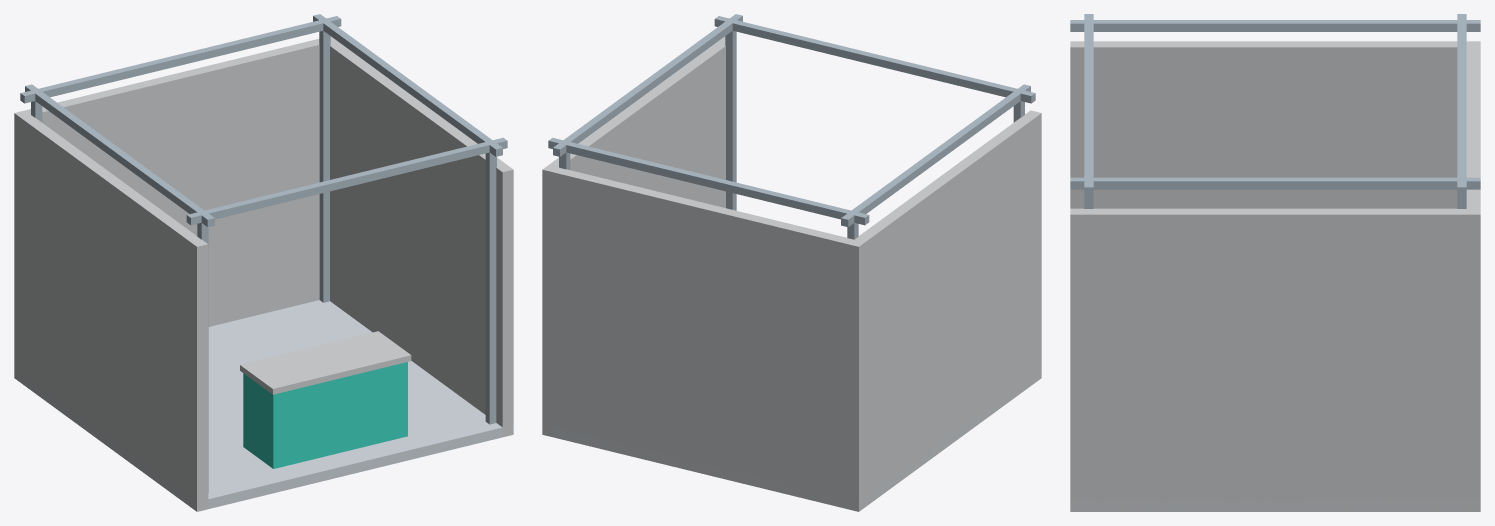
3 renders of one model, left to right at view 1: azimuth 30°, elevation 25°; view 2: azimuth 150°, elevation 25°; view 3: azimuth 270°, elevation 25°, orthographic. The views are drawn at different scales.
Parts seen in each view (by area): view 1: Exhibition Booth Concept; view 2: Exhibition Booth Concept; view 3: Exhibition Booth Concept.
Part boxes in pixels (left/top/right/bottom): Exhibition Booth Concept: left=14, top=14, right=513, bottom=511; Exhibition Booth Concept: left=542, top=14, right=1041, bottom=511; Exhibition Booth Concept: left=1070, top=14, right=1480, bottom=511.
Bounding box in the file's own units: 4 × 3.49 × 4.
